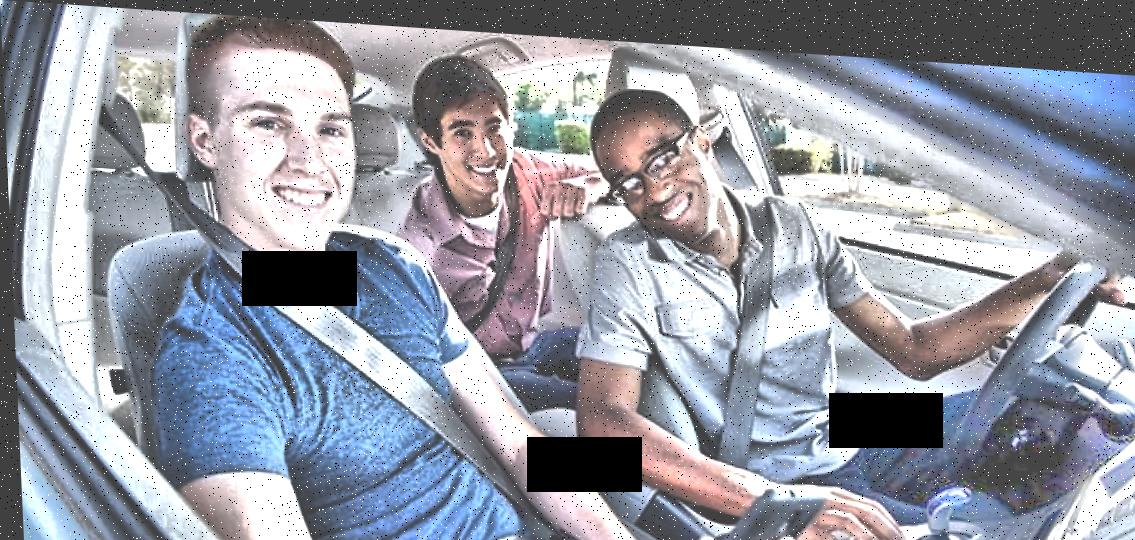seatbelt: (92, 108, 541, 517), (700, 91, 779, 473), (457, 124, 538, 346)
